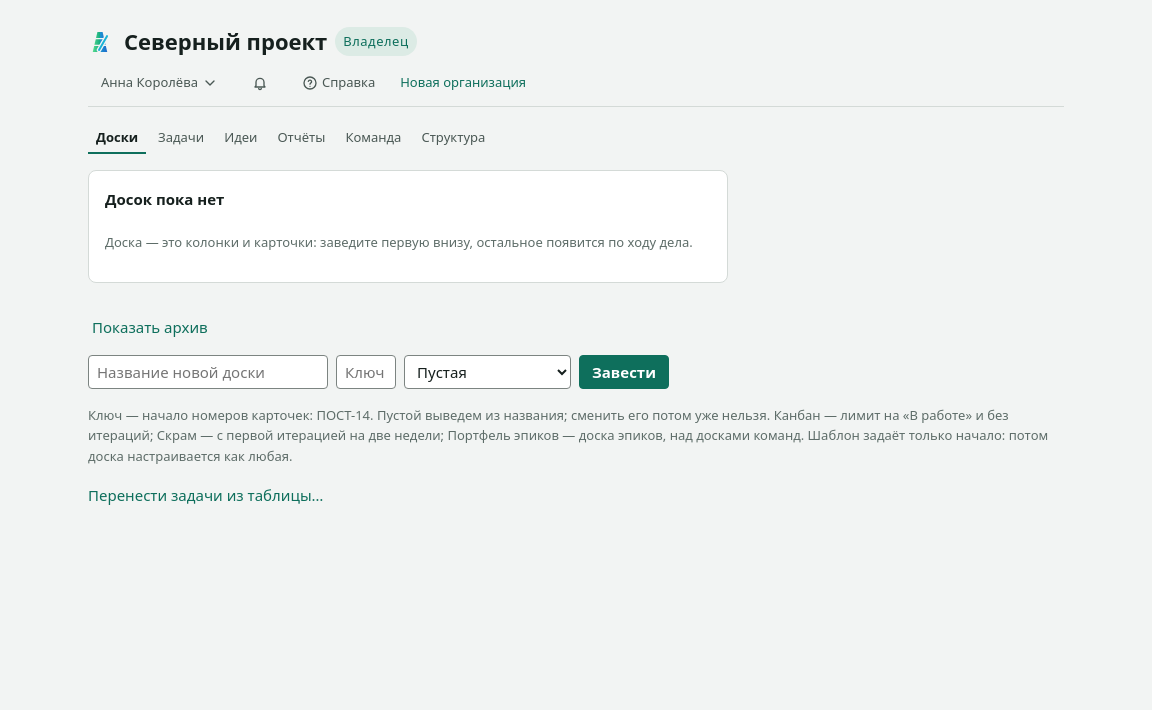
объяснение снимается: на форме новой организации его нет, после входа — тоже
This screenshot has width=1152, height=710.
Expected: the heading "Северный проект" is shown, [124, 24, 327, 59]
Step 1. Click the button "Показать архив" → coordinates (150, 327), box [88, 315, 212, 339]
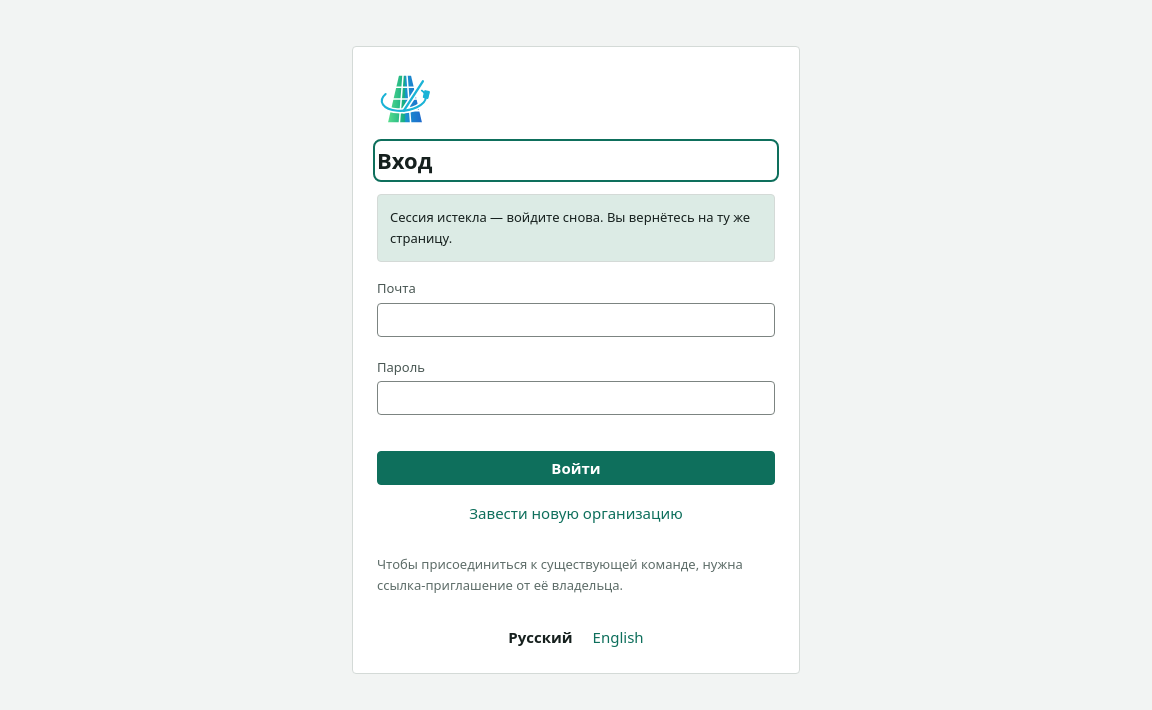
Expected: the text "Сессия истекла" is shown, [390, 208, 750, 247]
Step 2. Click the button "Завести новую организацию" → coordinates (576, 513), box [377, 501, 775, 525]
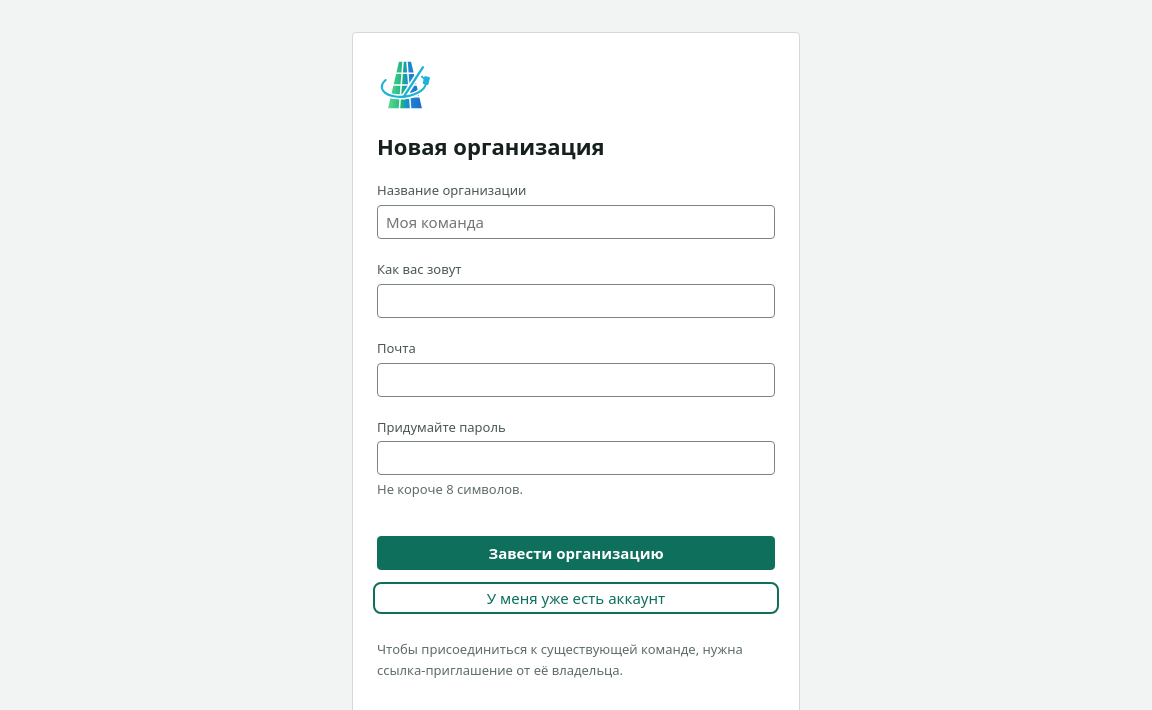
Expected: the text "Сессия истекла" is gone
Step 3. Click the button "У меня уже есть аккаунт" → coordinates (576, 598), box [377, 586, 775, 610]
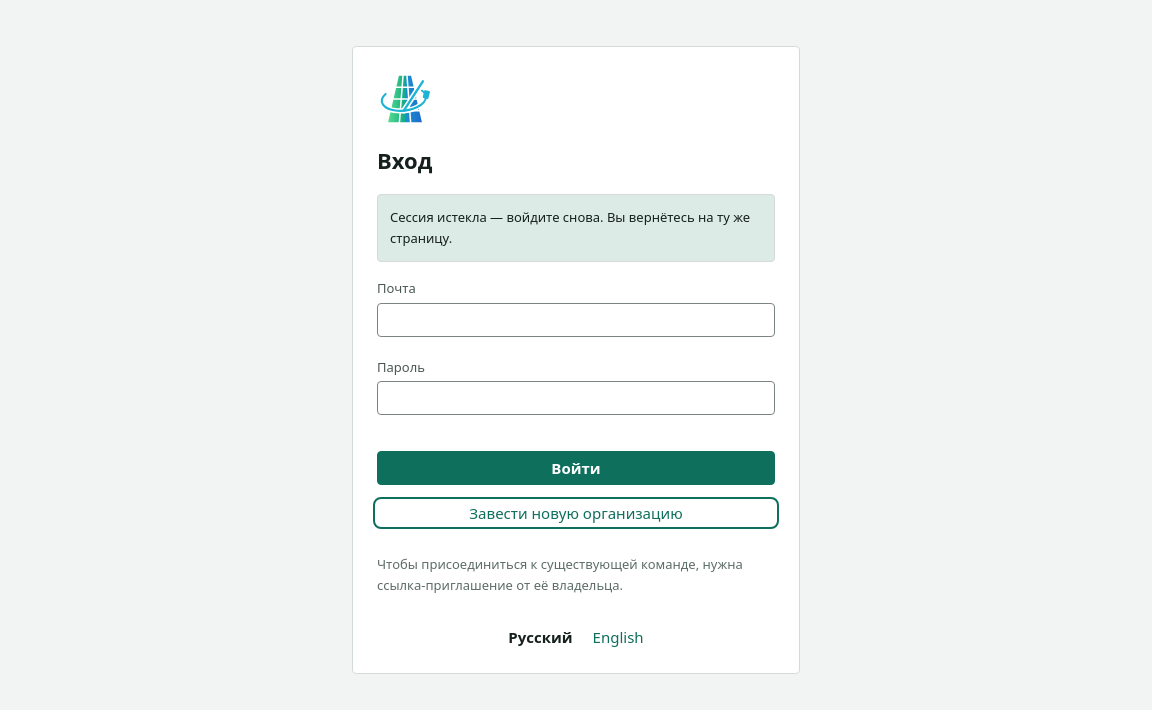
Step 4. Type "anna@example.test" into the field labelled "Почта" → coordinates (576, 320), box [377, 303, 775, 337]
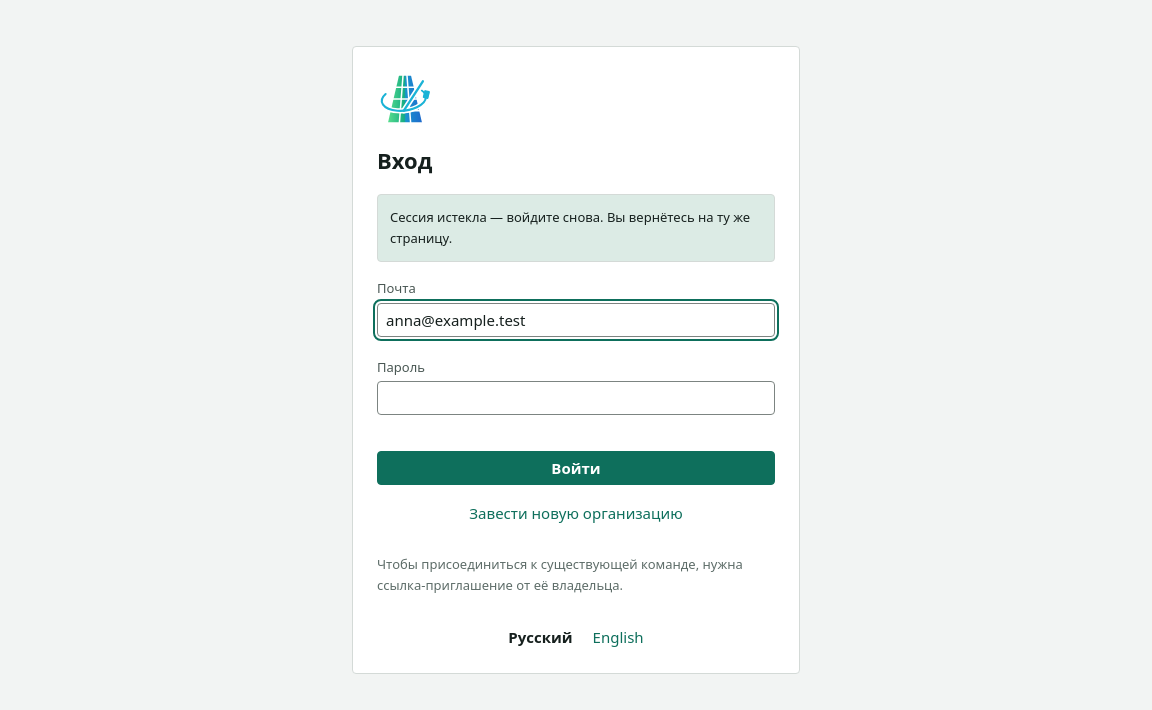
Step 5. Type "parol12345" into the password field labelled "Пароль" → coordinates (576, 398), box [377, 381, 775, 415]
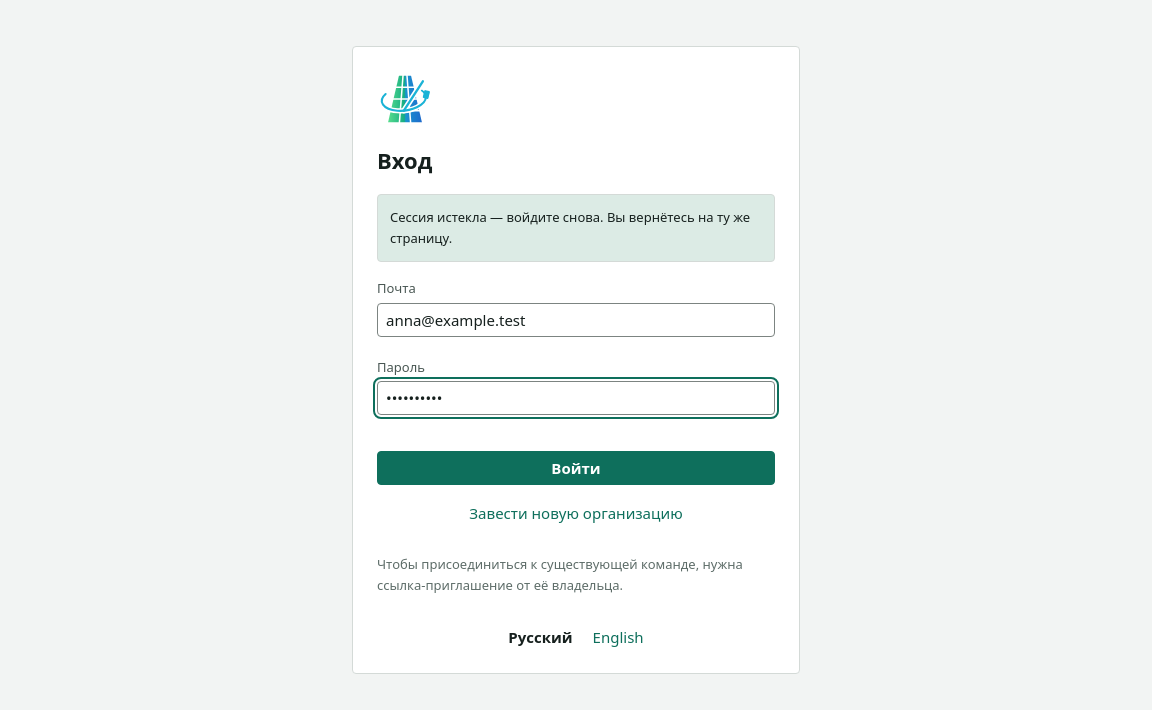
Step 6. Click the button "Войти" → coordinates (576, 468), box [377, 451, 775, 485]
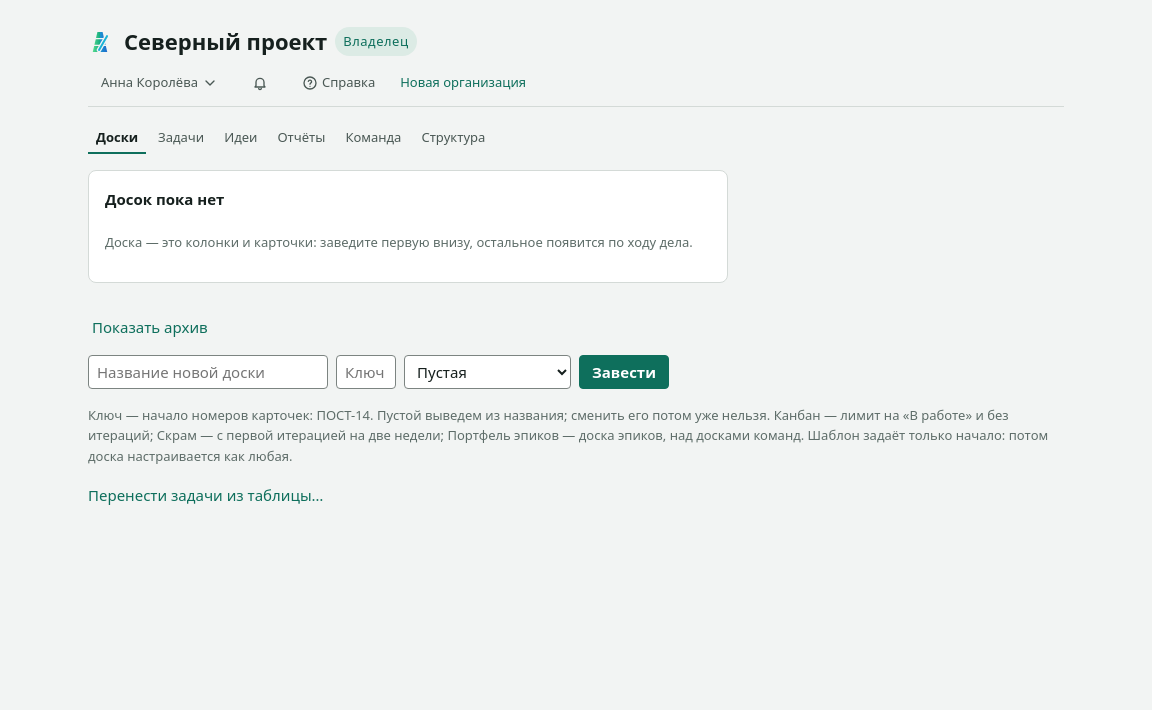
Expected: the text "Анна Королёва" is shown, [101, 72, 198, 93]
Expected: the text "Сессия истекла" is gone
